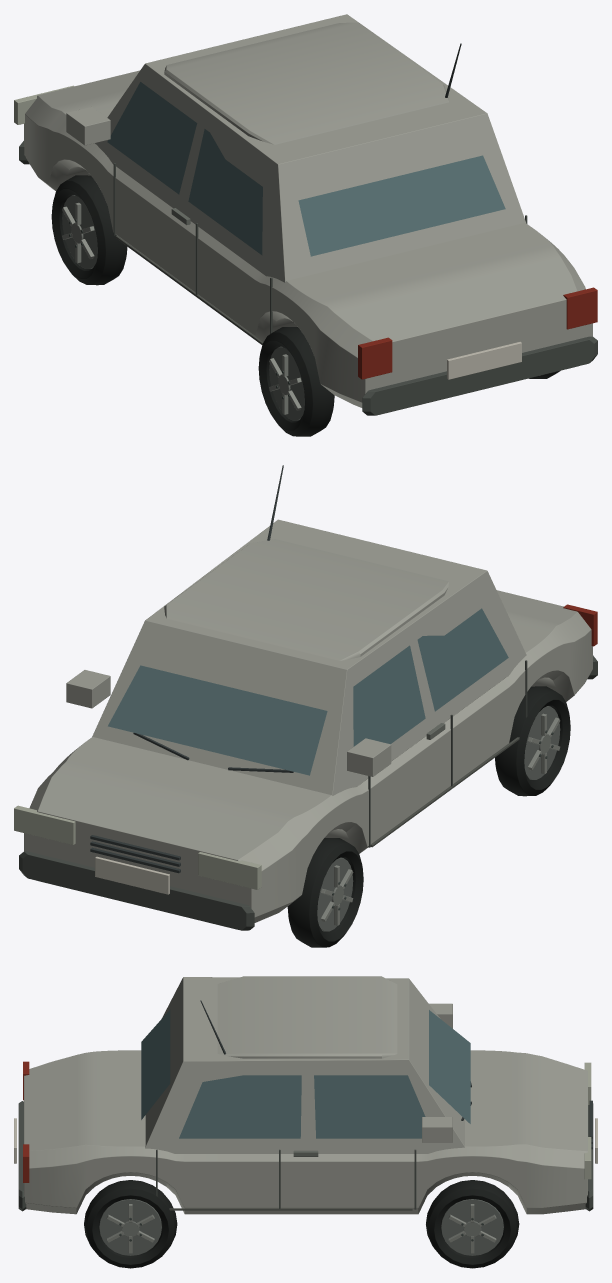
File: hatchback.glb
The picture shows the model from 3 angles, top to bottom: view 1: azimuth 30°, elevation 25°; view 2: azimuth 150°, elevation 25°; view 3: azimuth 270°, elevation 25°; orthographic projection. The views are drawn at different scales.
Visible parts, largest first — view 1: hatchback; view 2: hatchback; view 3: hatchback.
Boxes of the visible parts, left/top/right/bottom form: hatchback: left=14, top=14, right=597, bottom=436; hatchback: left=14, top=465, right=597, bottom=947; hatchback: left=14, top=976, right=597, bottom=1268.
Size of the model in its own units: 2 by 1.92 by 4.
